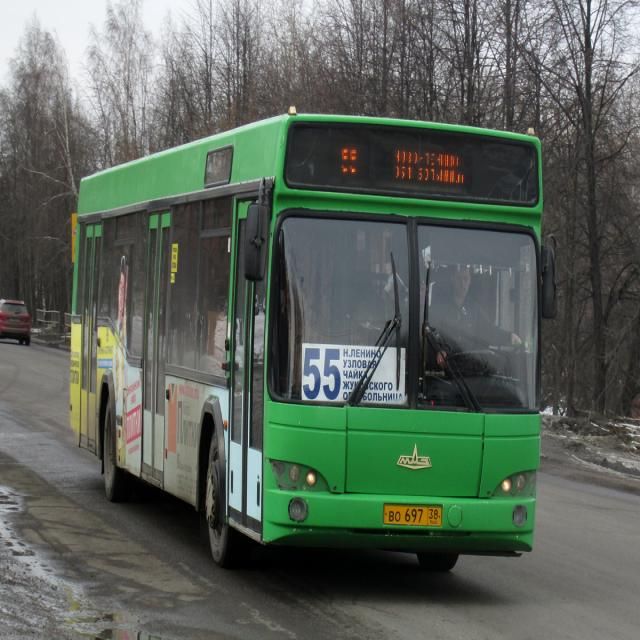number-of-bus: (304, 344, 343, 402)
